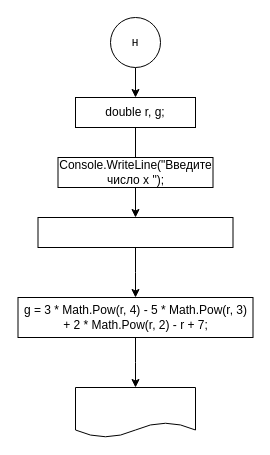
This 270x455 diagram has some shape labels left out. The shapes that lost their labels are listed below. From the top down, each one's box as (x1, y1, x2, y2) in pixels, then its label:
(37, 216, 233, 248): r = double.Parse(Console.ReadLine());
(74, 386, 196, 438): Console.WriteLine(g);
